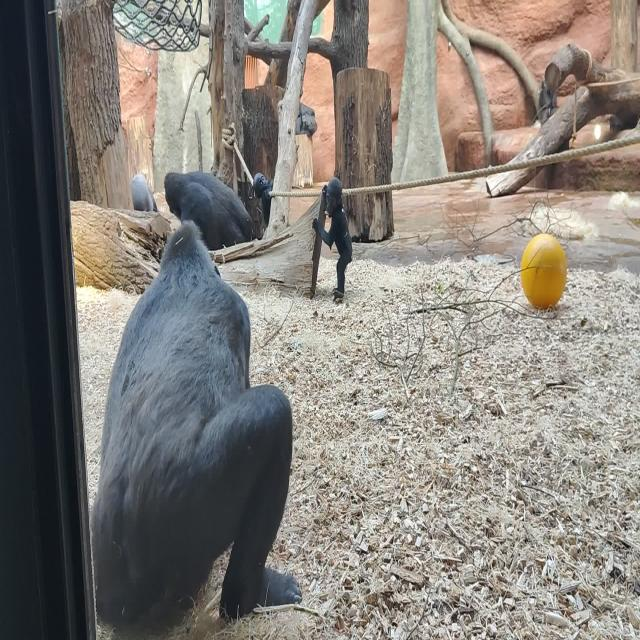monkey: (90, 219, 302, 640), (164, 170, 253, 251), (312, 178, 353, 298), (253, 172, 274, 226), (296, 102, 318, 138)
